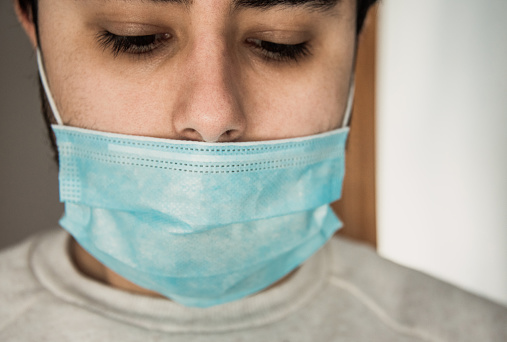mask_weared_incorrect: (46, 17, 353, 303)
